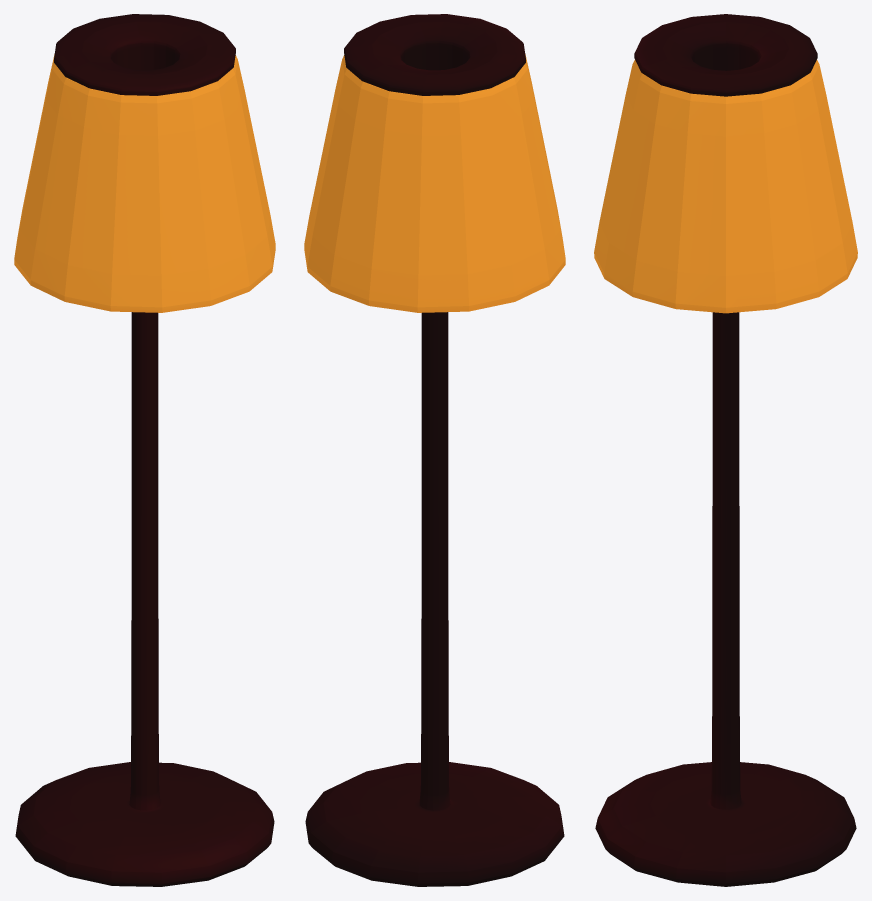
Rendered from lamp.glb.
3 views of the same model, side by side, from view 1: azimuth 30°, elevation 25°; view 2: azimuth 150°, elevation 25°; view 3: azimuth 270°, elevation 25° (orthographic).
Parts seen in each view (by area): view 1: room1_stand_big; view 2: room1_stand_big; view 3: room1_stand_big.
Part boxes in pixels (x1,y1,x2,y2): room1_stand_big: (14,14,275,886); room1_stand_big: (304,14,565,886); room1_stand_big: (594,14,857,886).
Bounding box in the file's own units: 1.62 × 5.34 × 1.62.
1 material, 1 textured.
